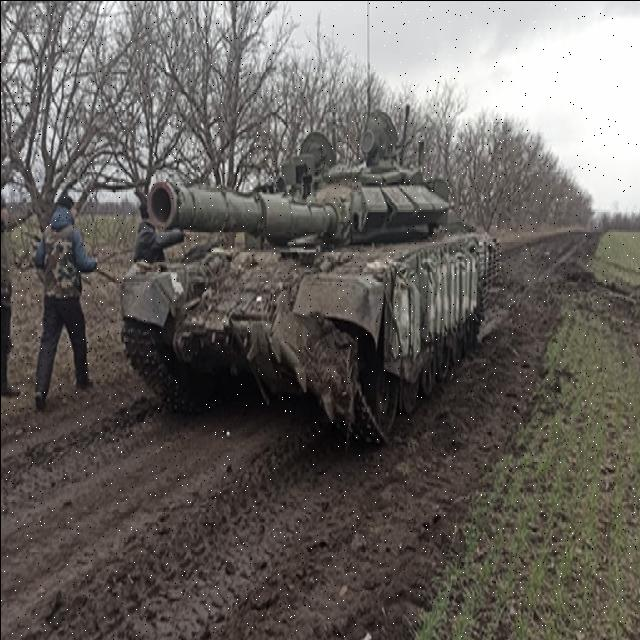TANK: (119, 124, 496, 447)
